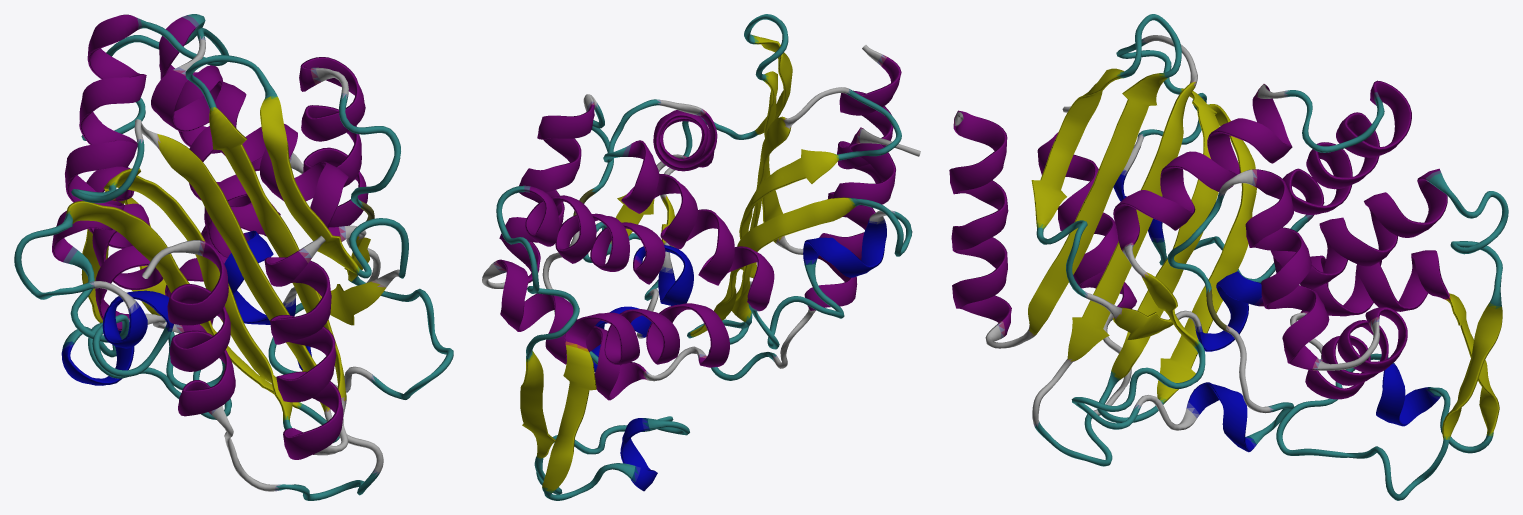
The model's file is animate.0018.obj.
3 renders of one model, left to right at view 1: azimuth 30°, elevation 25°; view 2: azimuth 150°, elevation 25°; view 3: azimuth 270°, elevation 25°, orthographic. The views are drawn at different scales.
Visible parts, largest first — view 1: vmd_mol0_rep0; view 2: vmd_mol0_rep0; view 3: vmd_mol0_rep0.
Boxes of the visible parts, x1,y1,x2,y2 form: vmd_mol0_rep0: [14, 14, 453, 500]; vmd_mol0_rep0: [482, 14, 920, 500]; vmd_mol0_rep0: [949, 14, 1508, 500].
Size of the model in its own units: 1.01 by 1.12 by 1.32.
